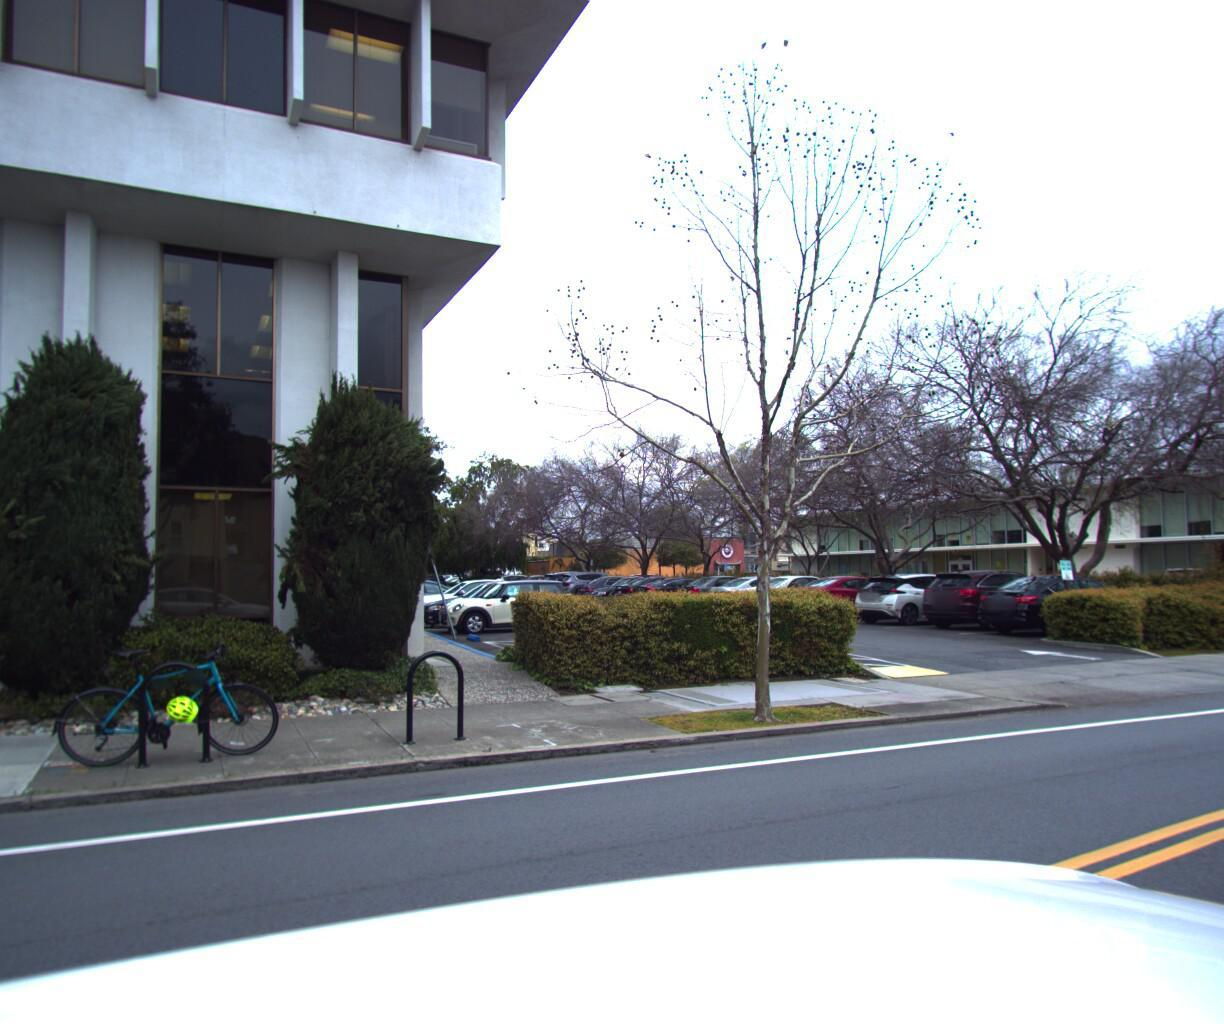bicycle: (25, 641, 286, 787)
car: (967, 577, 1146, 645), (910, 573, 1068, 633)
